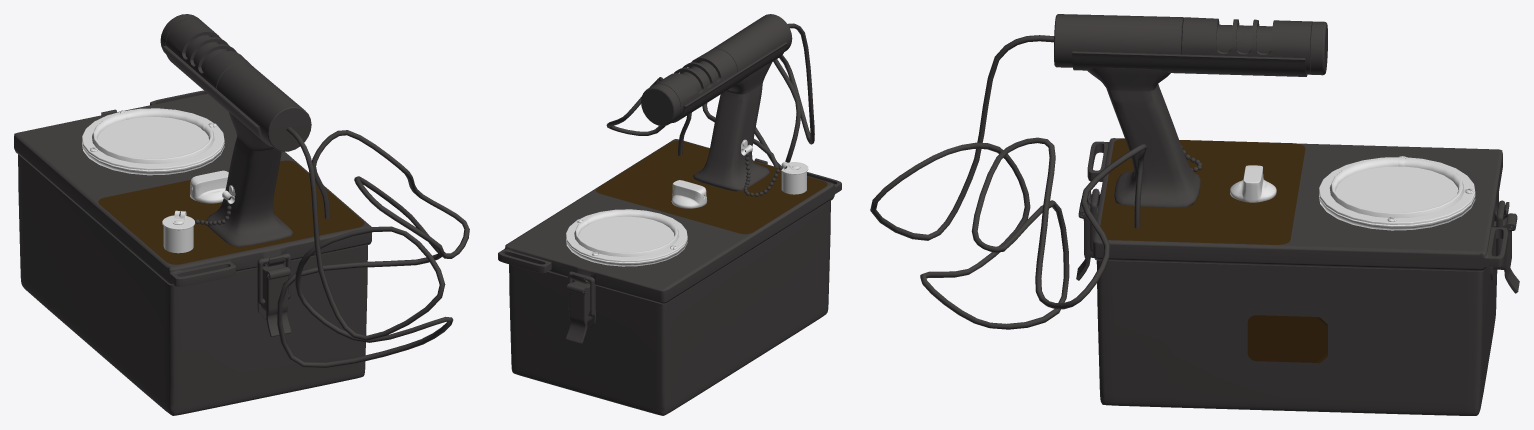
Rendered from compteurgeiger.glb.
3 views of the same model, side by side, from view 1: azimuth 30°, elevation 25°; view 2: azimuth 150°, elevation 25°; view 3: azimuth 270°, elevation 25° (orthographic). The views are drawn at different scales.
Parts seen in each view (by area): view 1: Cable_low; view 2: Cable_low; view 3: Cable_low.
Part boxes in pixels (box(x1,y1,x2,y2)): Cable_low: box(14, 14, 469, 415); Cable_low: box(498, 14, 841, 415); Cable_low: box(870, 14, 1519, 415).
Size of the model in its own units: 0.2859 by 0.2981 by 0.5181.
